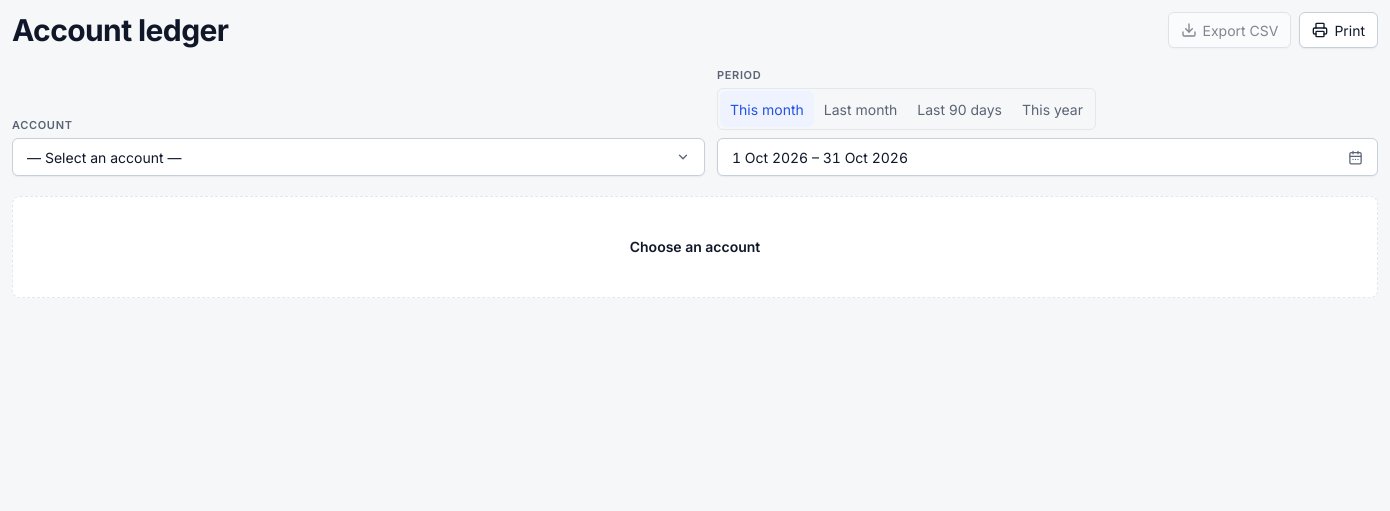
Test case: AccountLedgerReport › loads the ledger once an account is chosen
The image size is (1390, 511).
What coordinates should you click on to do the following:
click the dropdown labelled "account"
I would click on:
 (104, 157)
Its box is [12,138,705,176].
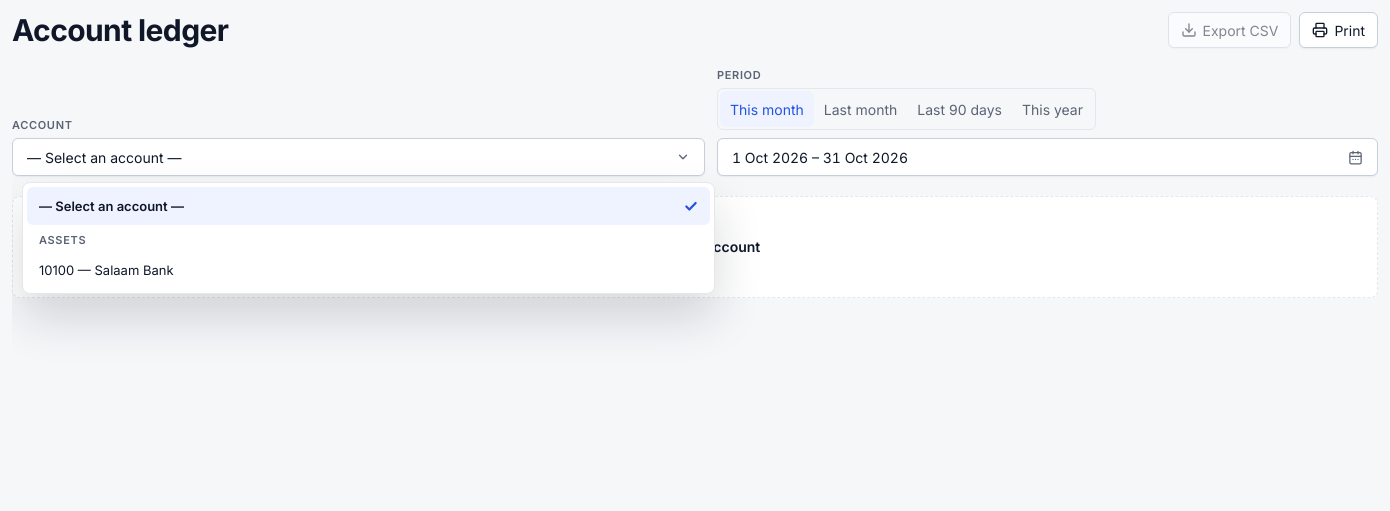
What coordinates should you click on to do the following:
click the option "10100 — Salaam Bank"
I would click on:
 (106, 270)
Its box is [39,262,174,278].
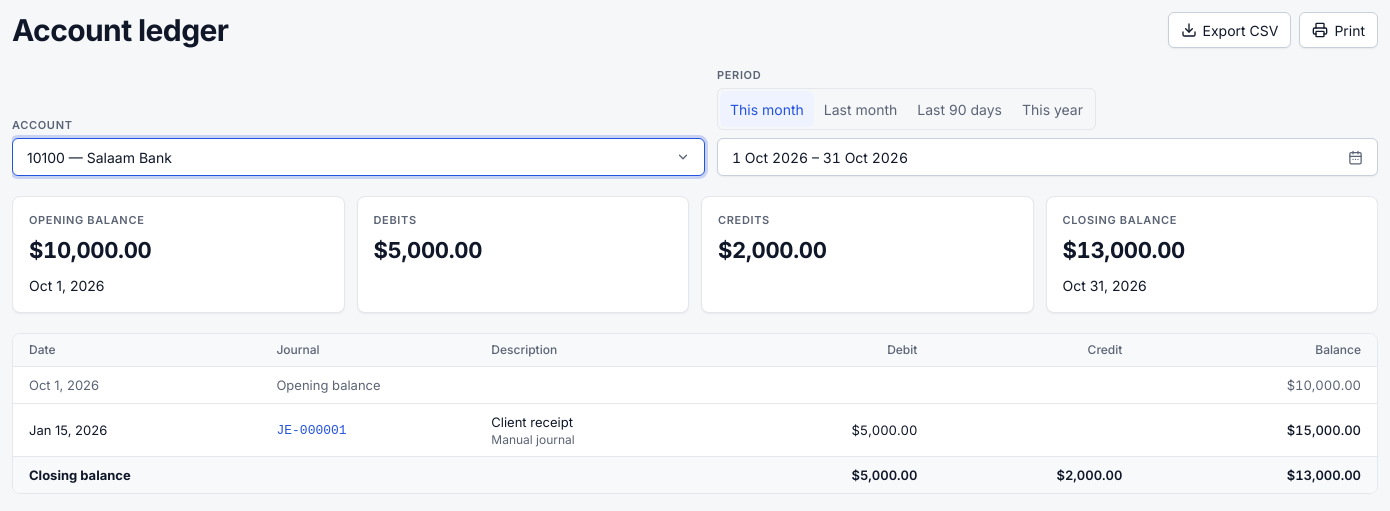
Now the text "Opening balance" is shown, box [29,213,144,227]
Now the text "Closing balance" is shown, box [1062,213,1177,227]
